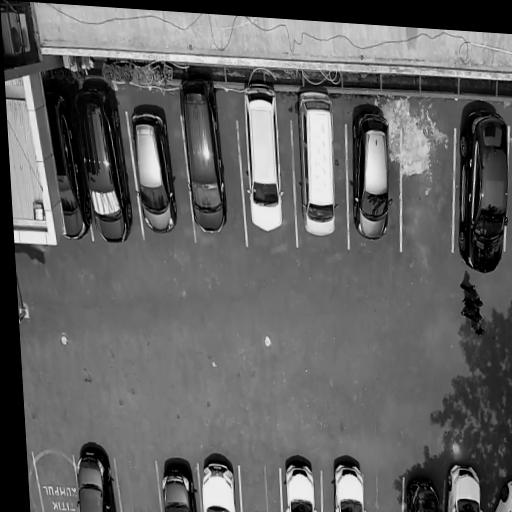Car: (452, 98, 512, 282), (72, 77, 133, 249), (175, 71, 233, 245), (39, 66, 90, 245), (288, 82, 344, 241), (238, 80, 288, 240), (125, 99, 181, 241), (344, 104, 397, 249), (71, 442, 117, 512), (277, 449, 321, 512), (328, 450, 371, 512), (196, 454, 241, 512), (157, 456, 198, 512), (445, 458, 484, 512), (403, 476, 447, 512), (481, 473, 512, 512)
Space Available: (399, 118, 454, 254), (33, 448, 76, 512), (115, 454, 159, 512), (239, 463, 281, 512), (367, 468, 402, 512)
